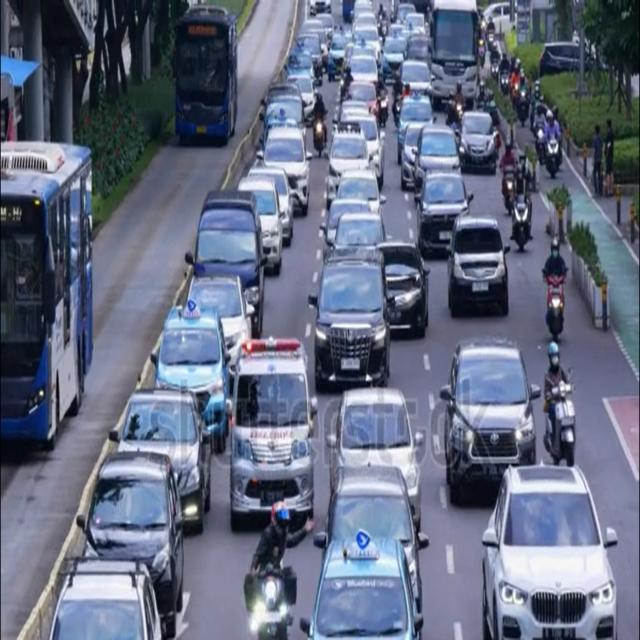Ambulance: (224, 314, 315, 535)
